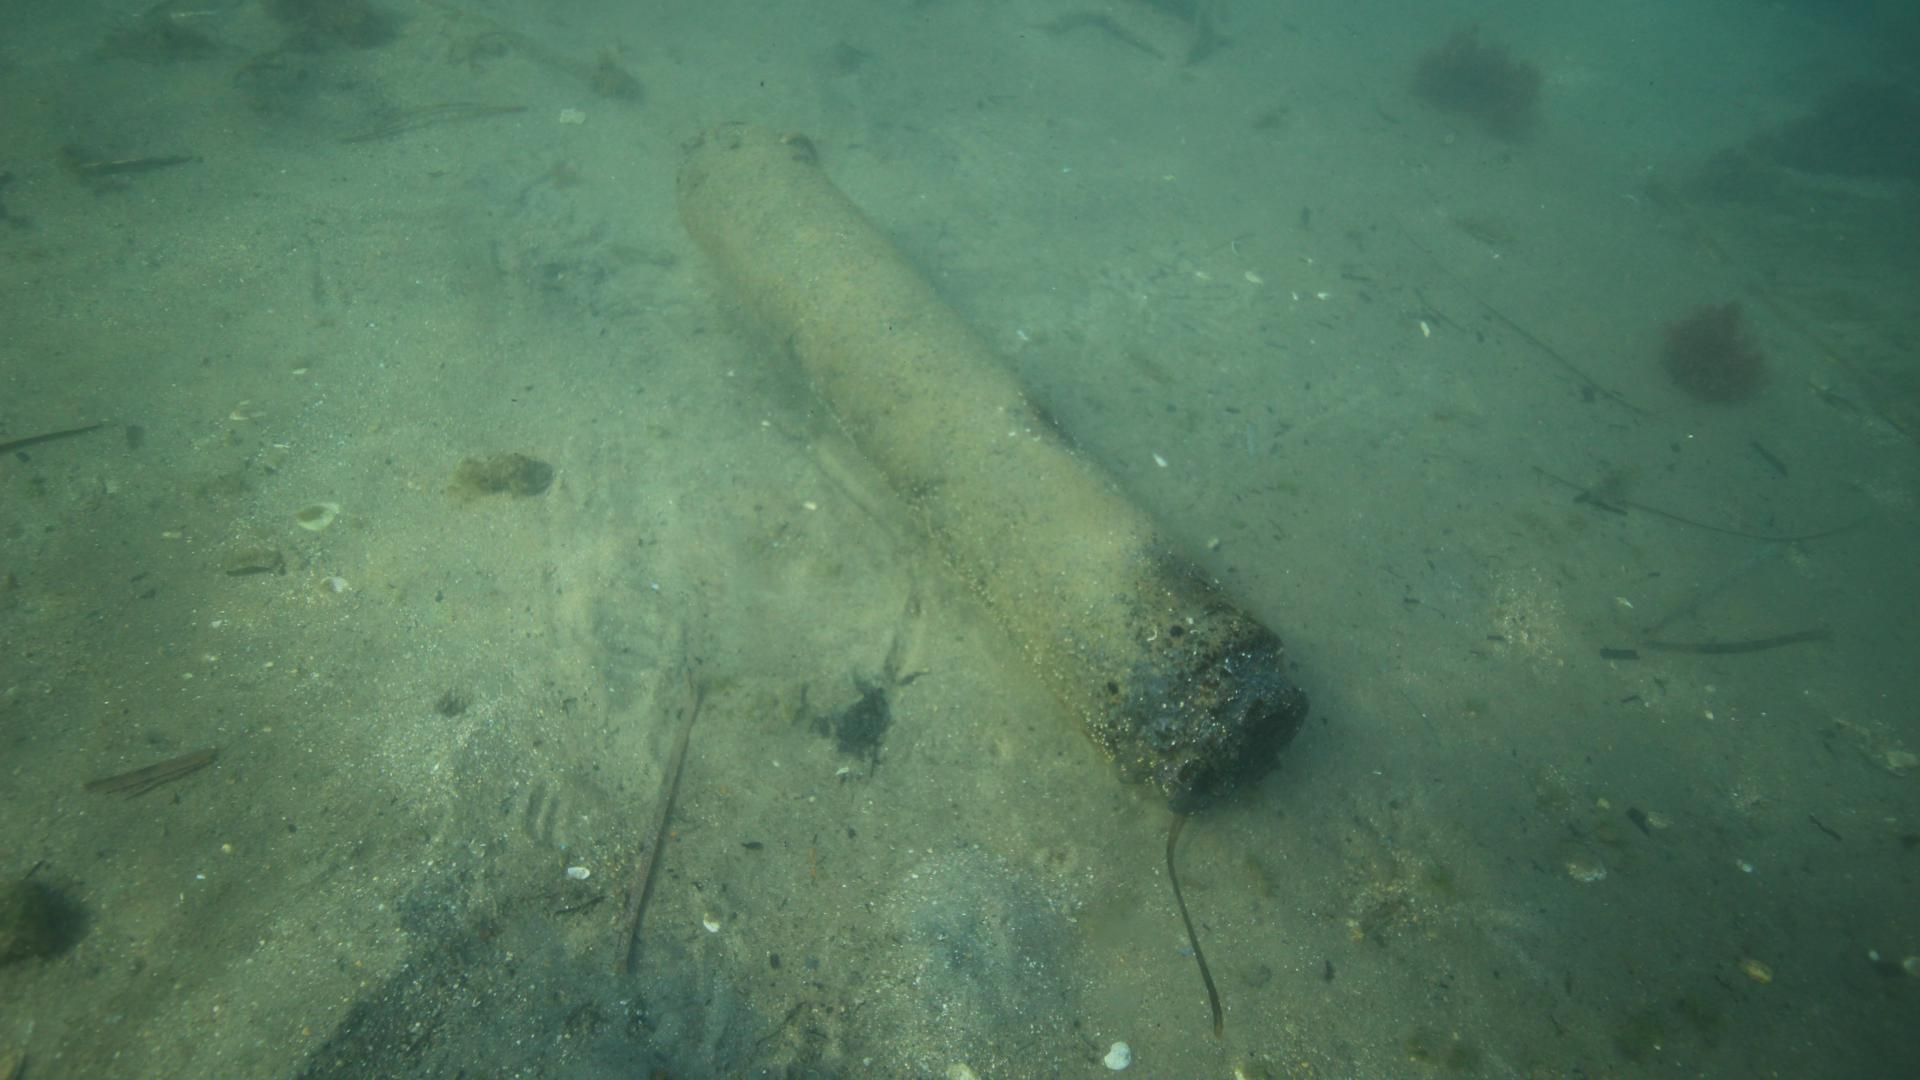eel fish trap: (671, 112, 1313, 814)
